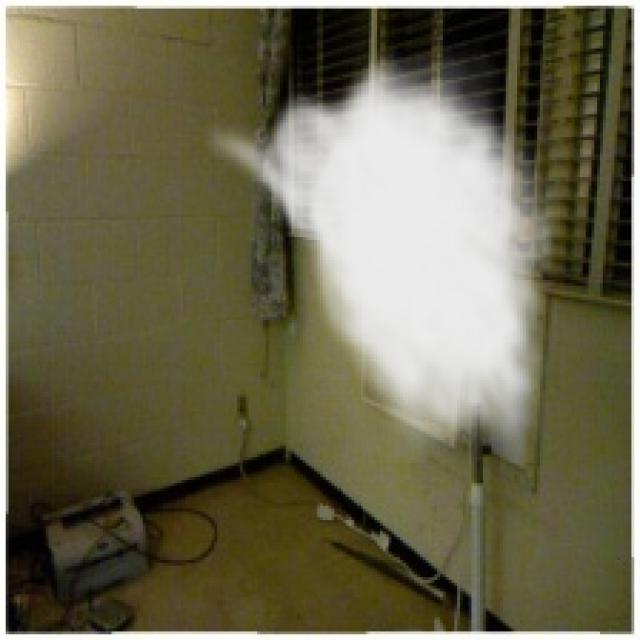smoke: (200, 43, 563, 468)
